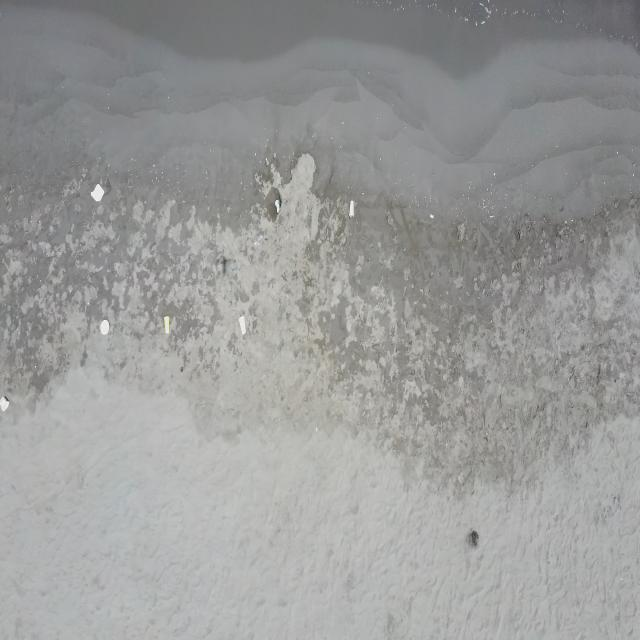take-away-containers: (91, 182, 105, 203), (100, 319, 110, 335), (0, 396, 9, 410)
takeaway-cup: (238, 315, 247, 336), (163, 314, 171, 335), (348, 198, 355, 221), (253, 234, 263, 248), (275, 199, 280, 215)
